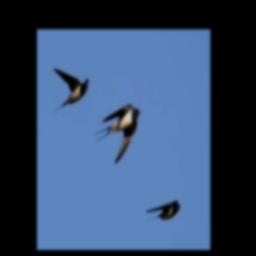Swallow: (94, 103, 140, 163), (53, 68, 88, 113), (145, 200, 180, 221)
